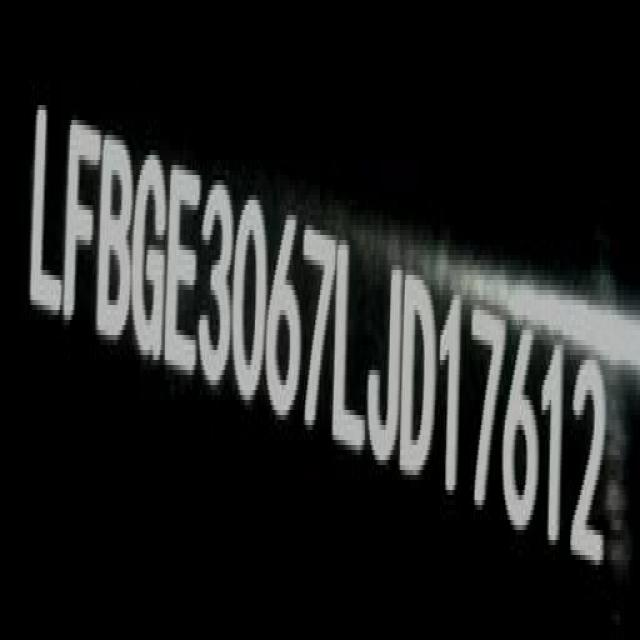0: (232, 167, 266, 413)
1: (439, 280, 465, 509), (541, 326, 565, 548)
2: (569, 354, 607, 568)
3: (197, 148, 234, 402)
6: (502, 294, 542, 542), (266, 200, 302, 439)
7: (470, 287, 505, 530), (304, 206, 334, 444)
B: (98, 104, 131, 354)
D: (400, 261, 440, 498)
E: (165, 139, 200, 385)
F: (63, 107, 102, 337)
G: (132, 132, 166, 370)
J: (368, 247, 404, 486)
L: (332, 232, 367, 458), (28, 93, 62, 322)
